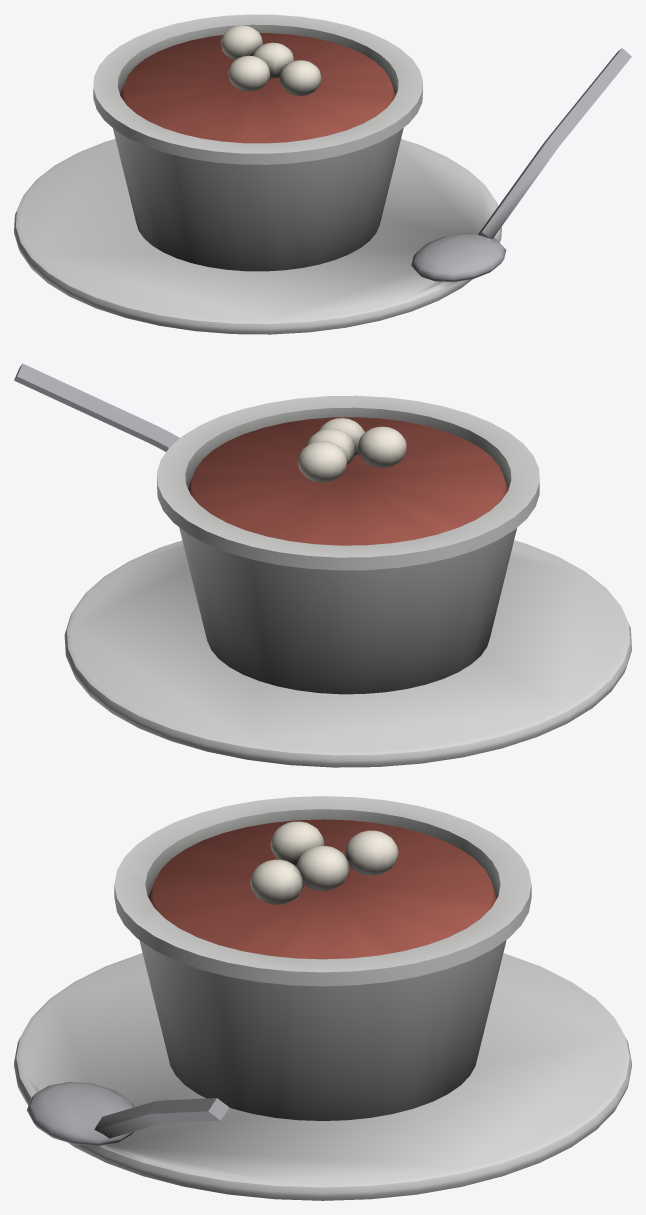
File: meal_custard.glb
3 views of the same model, one above another, from view 1: azimuth 30°, elevation 25°; view 2: azimuth 150°, elevation 25°; view 3: azimuth 270°, elevation 25° (orthographic). The views are drawn at different scales.
Parts seen in each view (by area): view 1: PART; view 2: PART; view 3: PART.
Part boxes in pixels (box(x1,y1,x2,y2)): PART: box(14, 14, 631, 334); PART: box(14, 363, 631, 767); PART: box(14, 796, 631, 1200).
Bounding box in the file's own units: 0.2041 × 0.069 × 0.16.
